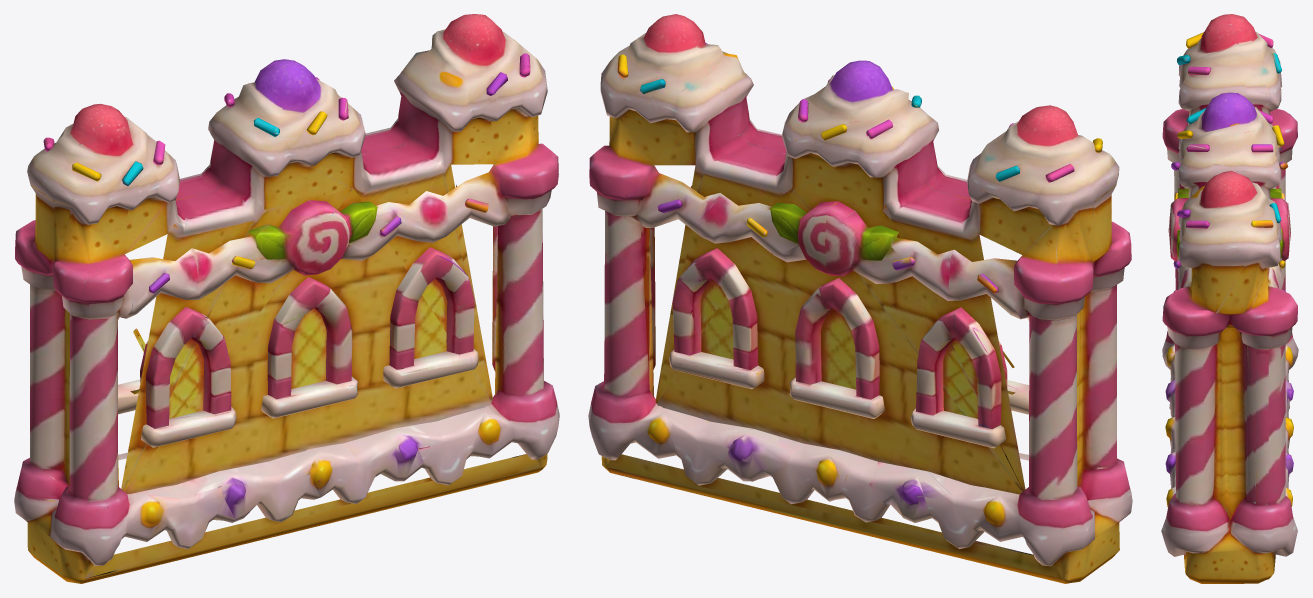
The model's file is castle_wall.glb.
3 renders of one model, left to right at view 1: azimuth 30°, elevation 25°; view 2: azimuth 150°, elevation 25°; view 3: azimuth 270°, elevation 25°, orthographic. The views are drawn at different scales.
Size of what is drawn, in the model's own units: 1.15 by 1 by 0.3187.
1 material, 1 textured.
